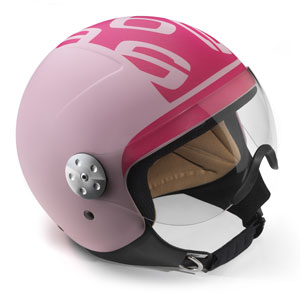helmet: (20, 16, 280, 252)
